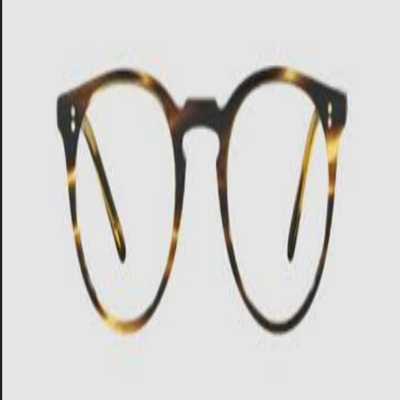glasses: (47, 67, 351, 343)
